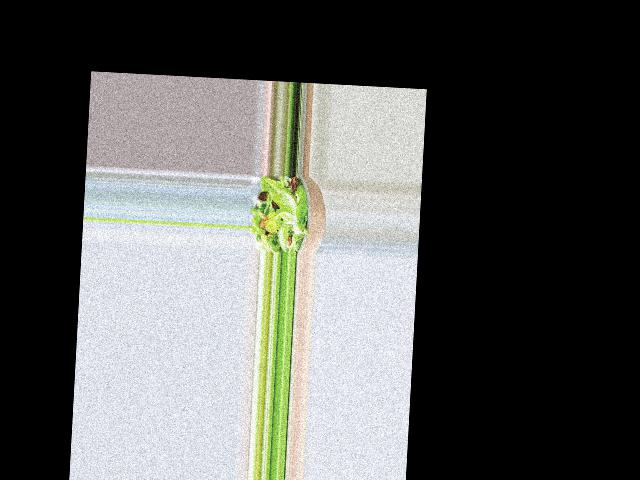lettuce: (251, 181, 309, 250)
